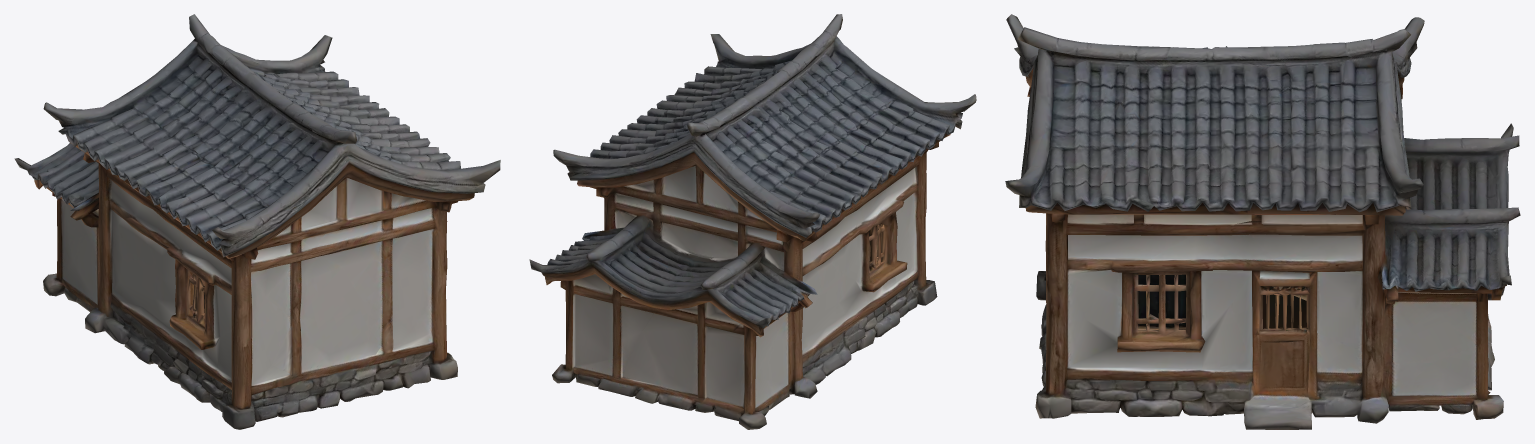
Rendered from house-a.glb.
3 views of the same model, side by side, from view 1: azimuth 30°, elevation 25°; view 2: azimuth 150°, elevation 25°; view 3: azimuth 270°, elevation 25° (orthographic). The views are drawn at different scales.
Visible parts, largest first — view 1: tripo_node_b424999f-54d7-47cc-bf5d-75c6df4c1775; view 2: tripo_node_b424999f-54d7-47cc-bf5d-75c6df4c1775; view 3: tripo_node_b424999f-54d7-47cc-bf5d-75c6df4c1775.
Part boxes in pixels (x1,y1,x2,y2): tripo_node_b424999f-54d7-47cc-bf5d-75c6df4c1775: [14, 14, 500, 429]; tripo_node_b424999f-54d7-47cc-bf5d-75c6df4c1775: [529, 14, 976, 429]; tripo_node_b424999f-54d7-47cc-bf5d-75c6df4c1775: [1005, 14, 1520, 429].
Size of the model in its own units: 0.764 by 0.7028 by 1.
1 material, 1 textured.
